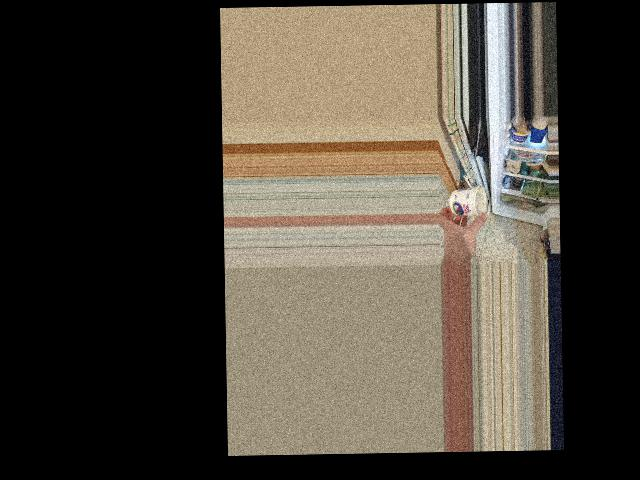cotage: (447, 185, 487, 219)
